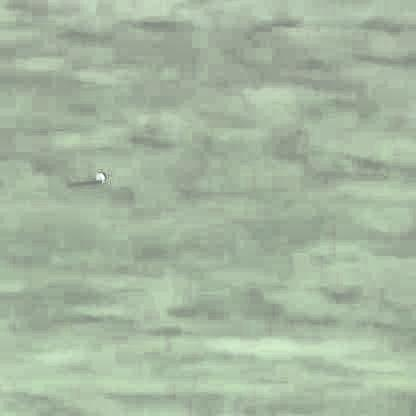golfball: (93, 171, 104, 181)
